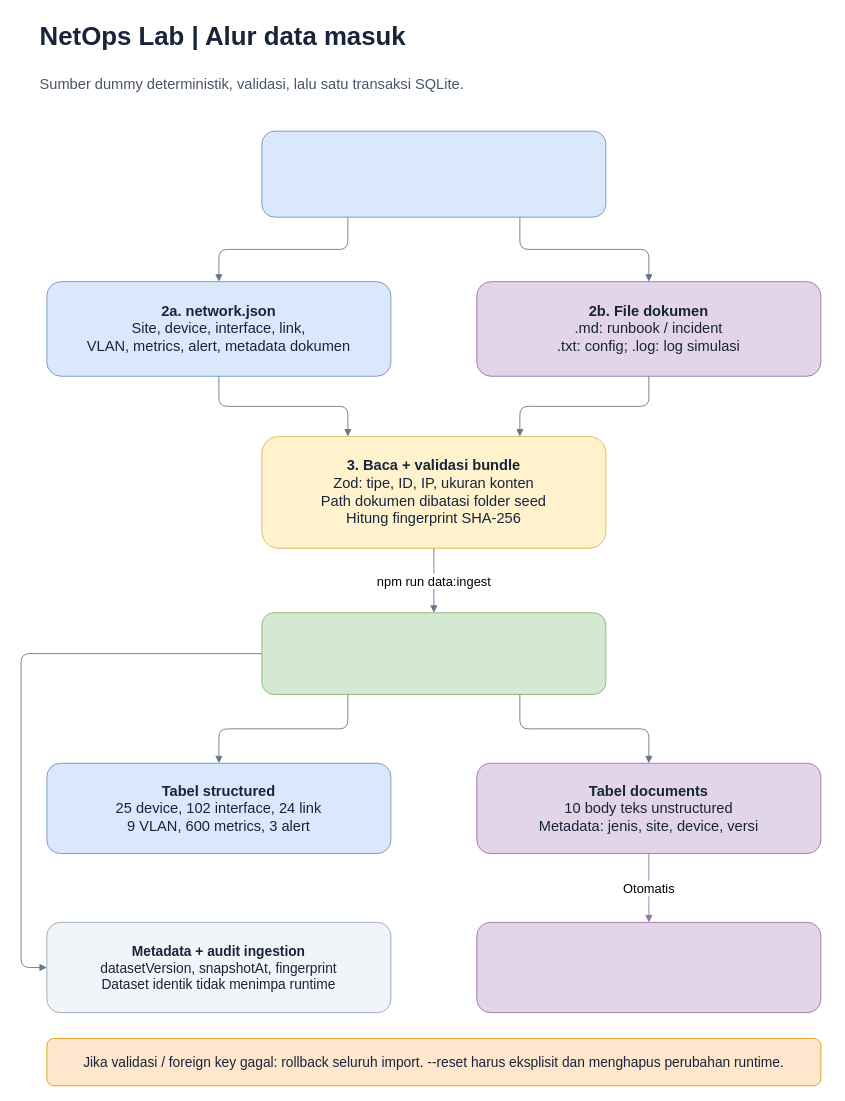
Some shapes in this 845 by 1101 pixel diagram are drawn without their labels. The shapes that lost their labels are listed below. From the top down, each one's centre as x and y in pixels, then its label:
At point (433, 173): "1. createSeed() npm run data:generate Angka dan ID selalu konsisten".
At point (433, 653): "4. Satu transaksi SQLite Foreign key aktif; semua atau tidak sama sekali".
At point (648, 967): "Index FTS5 Trigger insert / update / delete Search title, content dan tags".
